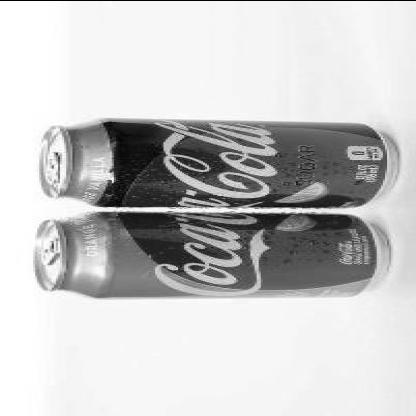alumunium_can: (35, 117, 400, 209), (31, 209, 393, 299)
